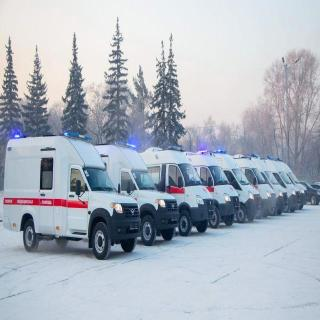Ambulance: (0, 114, 155, 270)
